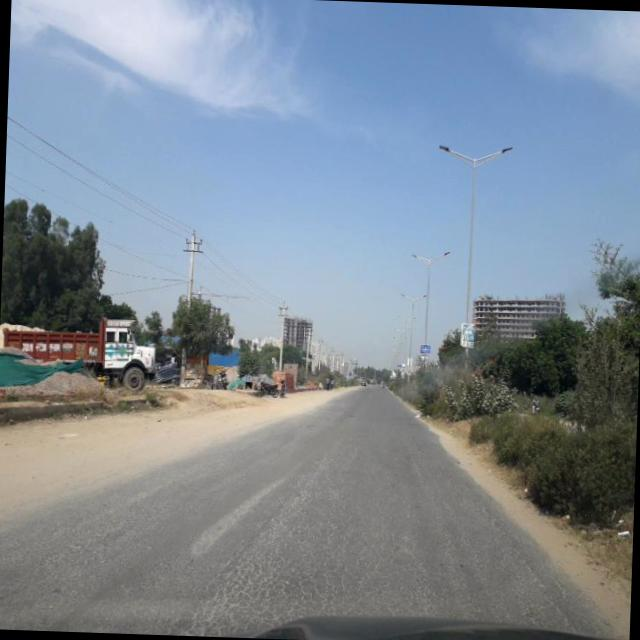crack: (0, 485, 596, 640)
pothole: (470, 493, 583, 635)
